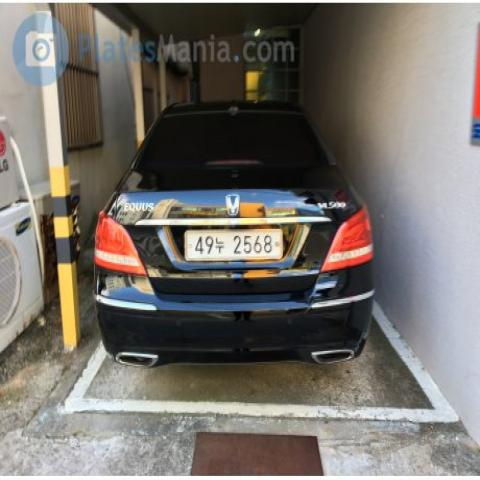LP: (173, 219, 299, 272)
